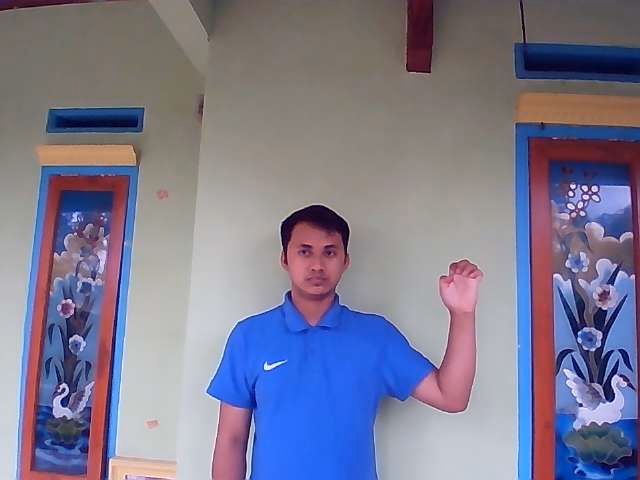E: (438, 258, 484, 315)
